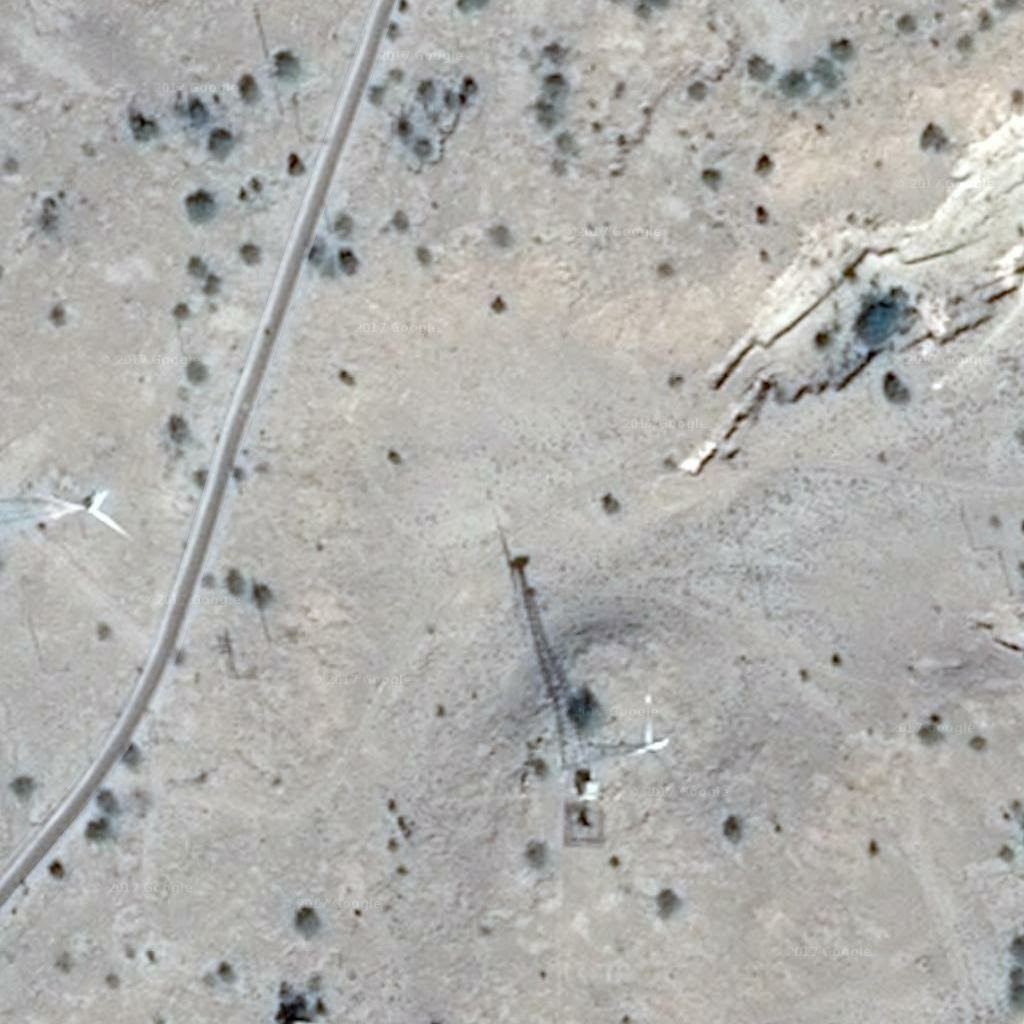Windmill: (490, 515, 600, 709)
